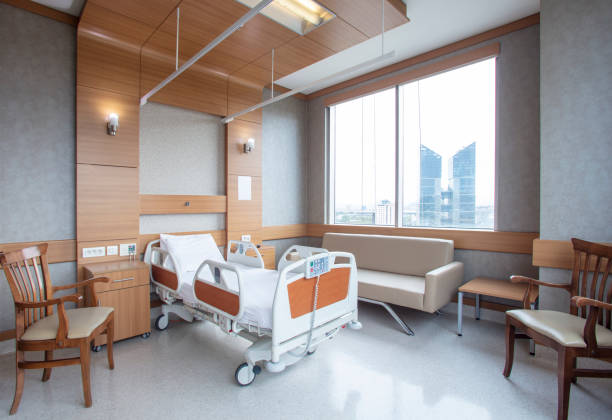bedrail: (191, 259, 244, 324), (279, 245, 331, 274), (151, 248, 180, 293), (227, 240, 264, 269)
bedside_table: (81, 260, 151, 353)
chair: (499, 236, 612, 420), (1, 242, 114, 414)
foot_board: (270, 251, 360, 363)
handle: (112, 276, 135, 282), (254, 253, 266, 257), (98, 299, 104, 307)
hospital_bed: (144, 237, 362, 388)
sequential_compression: (305, 252, 339, 281)
sofa: (322, 233, 465, 337)
table: (458, 276, 538, 359)
